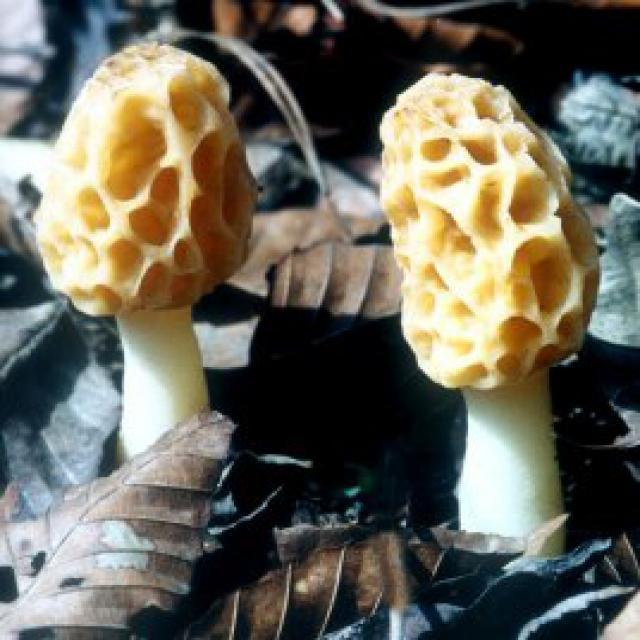Morchella esculenta: (384, 72, 601, 547), (33, 42, 251, 463)
